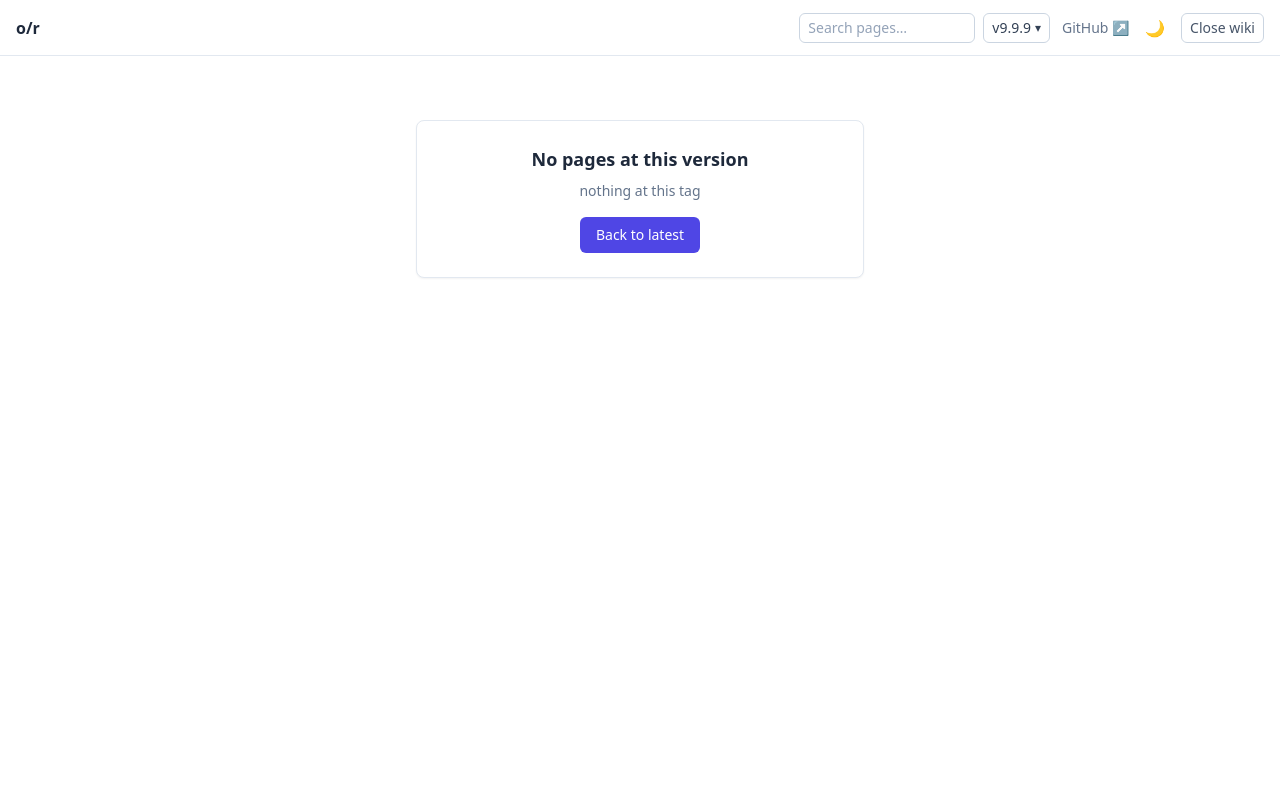
Test: resolving and error states › goes back to latest from a per-version error
This screenshot has width=1280, height=800.
Click the button "Back to latest".
click(640, 235)  # box x1=580 y1=217 x2=700 y2=253
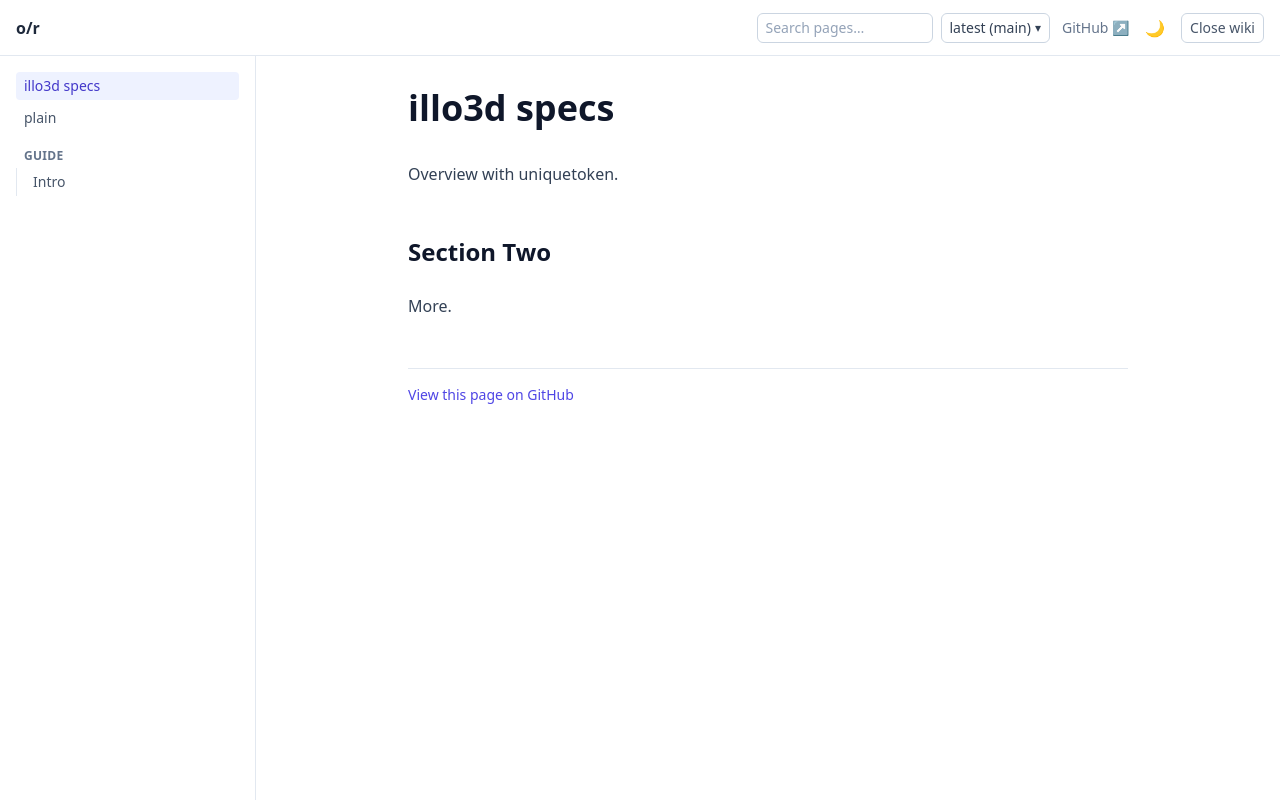
Check: the heading "illo3d specs" is shown, box x1=408 y1=83 x2=614 y2=132
